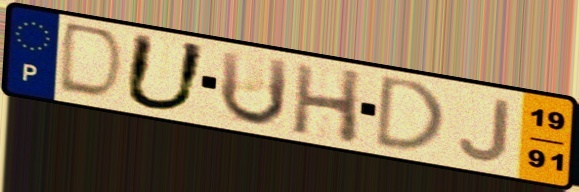D: (371, 72, 449, 154), (54, 19, 129, 104)
H: (289, 61, 366, 148)
J: (455, 96, 513, 164)
U: (119, 30, 212, 114), (216, 47, 292, 128)
